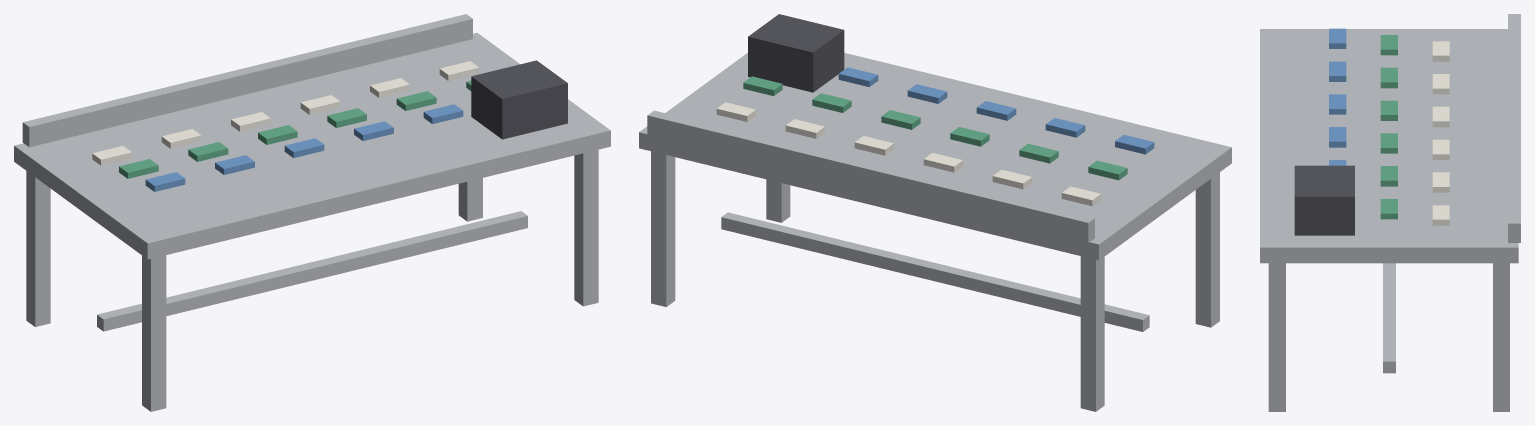
Rendered from casino-floor-and-back-rooms-count-room-table-405dc6b7__27063.glb.
3 views of the same model, side by side, from view 1: azimuth 30°, elevation 25°; view 2: azimuth 150°, elevation 25°; view 3: azimuth 270°, elevation 25° (orthographic). The views are drawn at different scales.
Parts seen in each view (by area): view 1: count-room-table; view 2: count-room-table; view 3: count-room-table.
Part boxes in pixels (left/top/right/bottom): count-room-table: left=14, top=14, right=610, bottom=411; count-room-table: left=639, top=14, right=1231, bottom=411; count-room-table: left=1260, top=14, right=1520, bottom=411.
Size of the model in its own units: 2.4 by 1.06 by 1.21.
